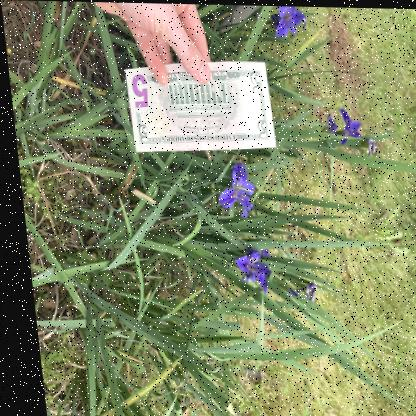five-back: (127, 56, 278, 157)
